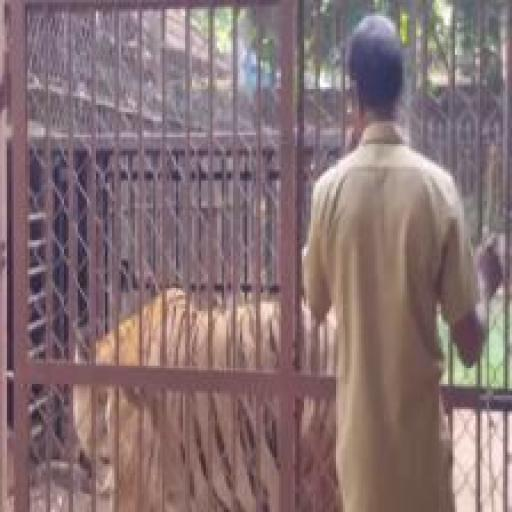Tiger: (57, 274, 303, 512)
